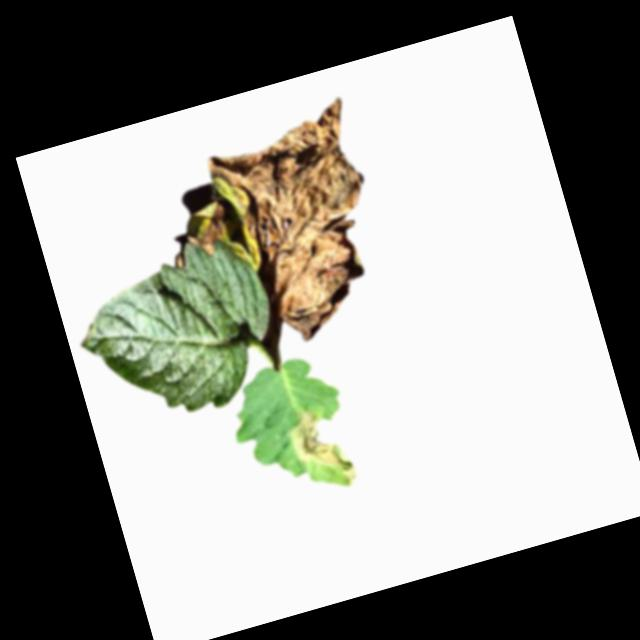Late_blight: (198, 93, 404, 353), (280, 398, 361, 500), (178, 201, 231, 261)
healthy: (60, 226, 292, 440)
